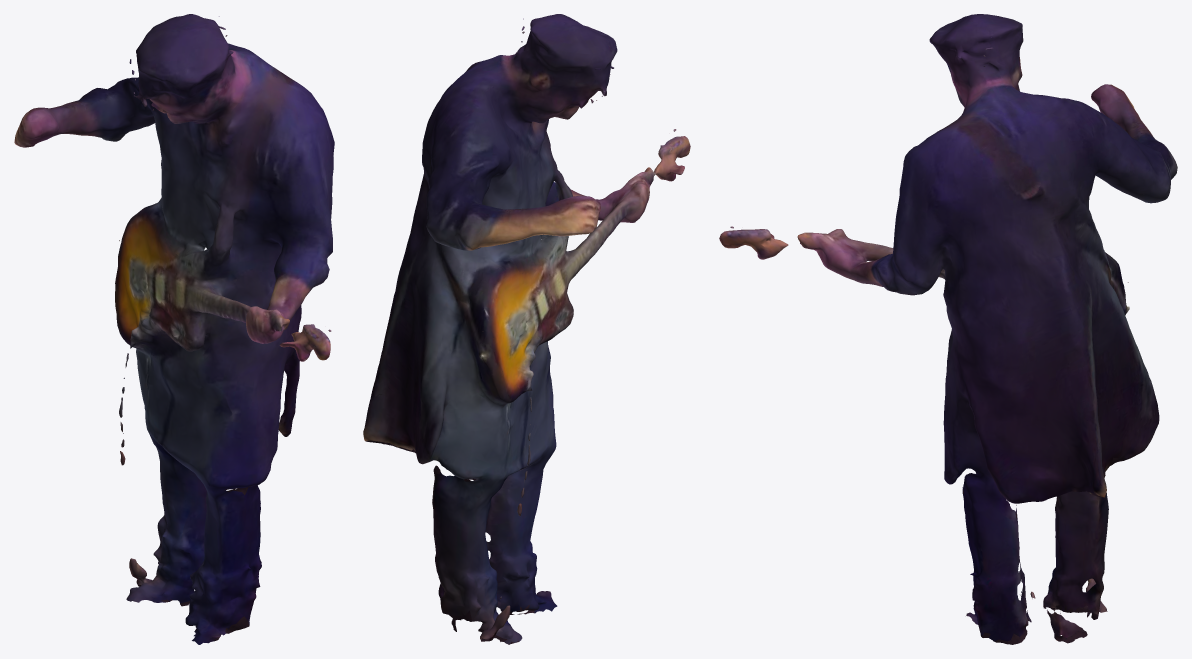
File: fardi_low_poly.glb
The picture shows the model from 3 angles, left to right: view 1: azimuth 30°, elevation 25°; view 2: azimuth 150°, elevation 25°; view 3: azimuth 270°, elevation 25°; orthographic projection. The views are drawn at different scales.
Bounding box in the file's own units: 1.58 × 3.76 × 2.62.
Materials: 7 (7 with a texture image).
